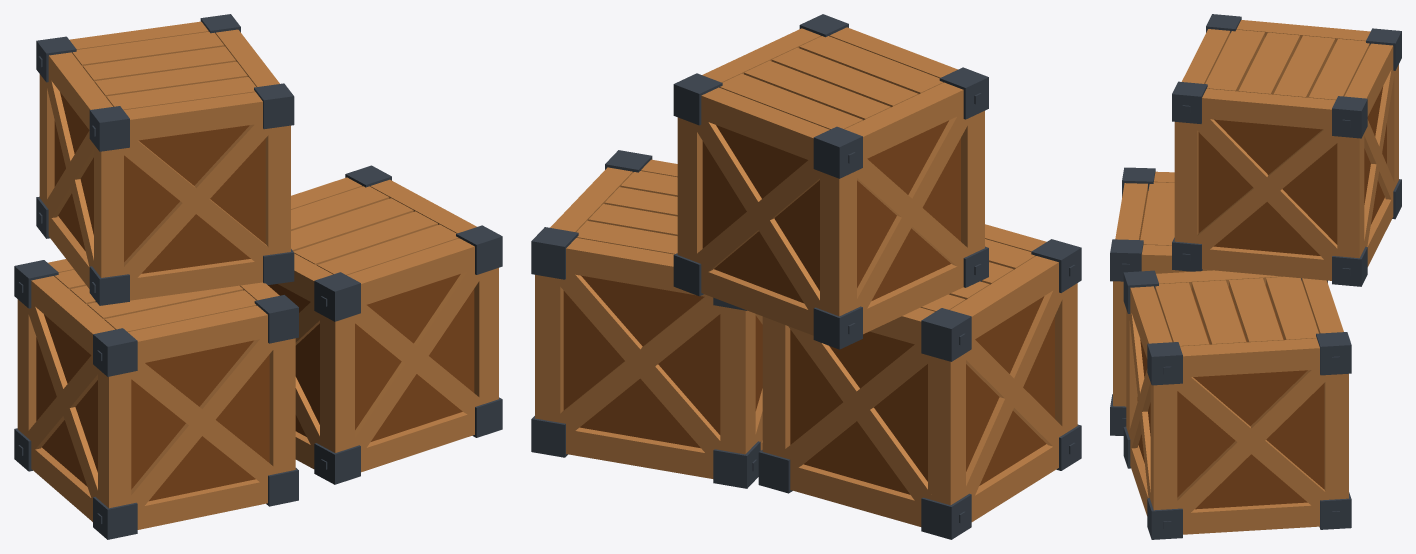
File: crate map 2.fbx
3 renders of one model, left to right at view 1: azimuth 30°, elevation 25°; view 2: azimuth 150°, elevation 25°; view 3: azimuth 270°, elevation 25°, orthographic. The views are drawn at different scales.
Visible parts, largest first — view 1: Construction_Props.001; view 2: Construction_Props.001; view 3: Construction_Props.001.
Boxes of the visible parts, x1,y1,x2,y2 form: Construction_Props.001: (14,14,502,539); Construction_Props.001: (531,14,1081,539); Construction_Props.001: (1110,14,1401,539).
Size of the model in its own units: 228 by 199 by 148.
